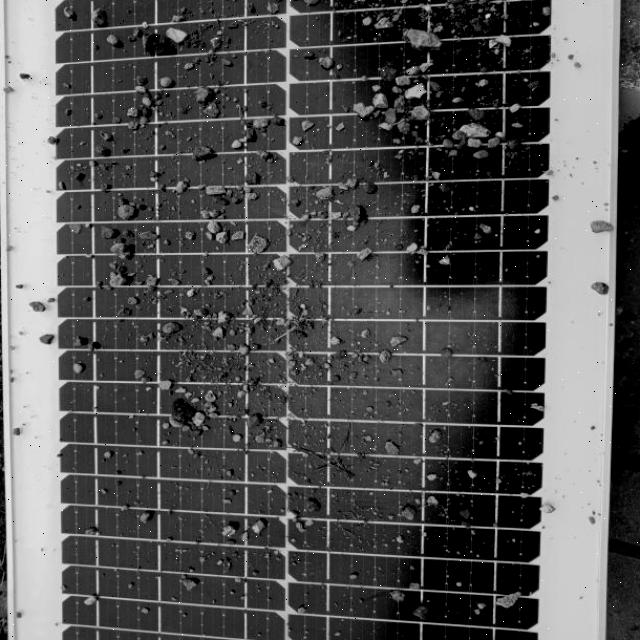Surface Contaminant: (45, 0, 575, 636)
